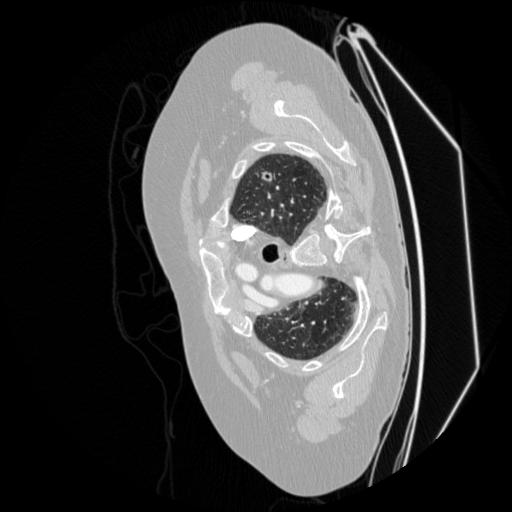nodule: (260, 168, 276, 184)
